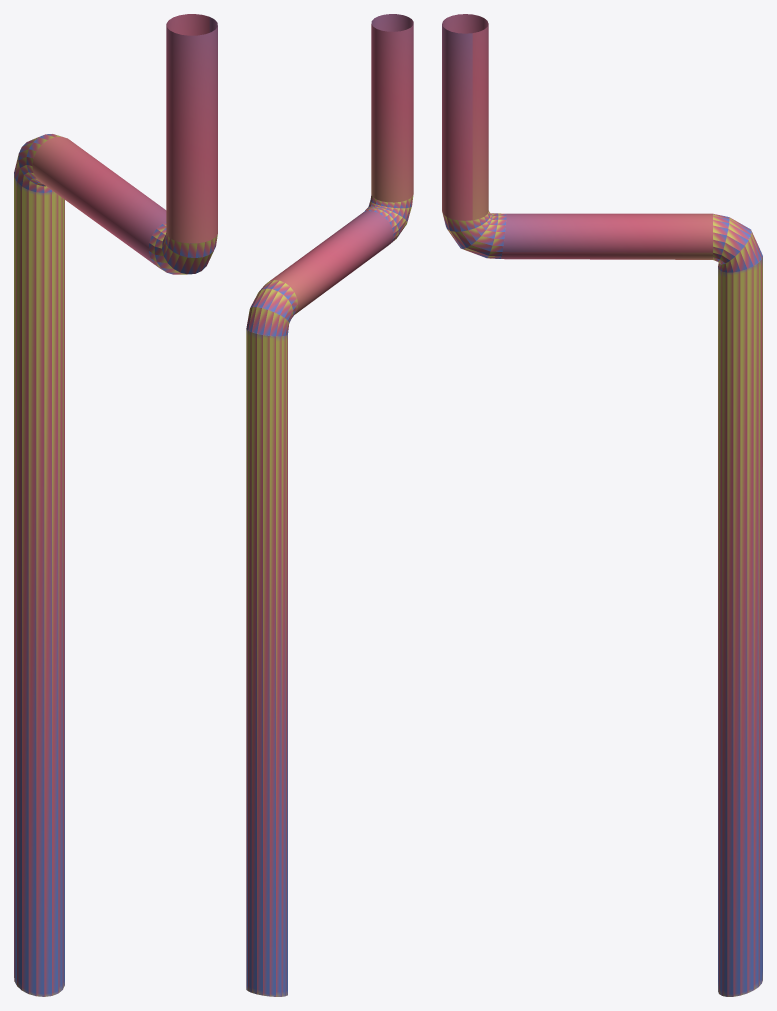
Rendered from Pipe.fbx.
The picture shows the model from 3 angles, left to right: view 1: azimuth 30°, elevation 25°; view 2: azimuth 150°, elevation 25°; view 3: azimuth 270°, elevation 25°; orthographic projection. The views are drawn at different scales.
Parts seen in each view (by area): view 1: Pipe; view 2: Pipe; view 3: Pipe.
Boxes of the visible parts, box(x1,y1,x2,y2) form: Pipe: box(14, 14, 217, 996); Pipe: box(246, 14, 413, 996); Pipe: box(442, 14, 762, 996).
Bounding box in the file's own units: 2 × 45.82 × 13.77.
